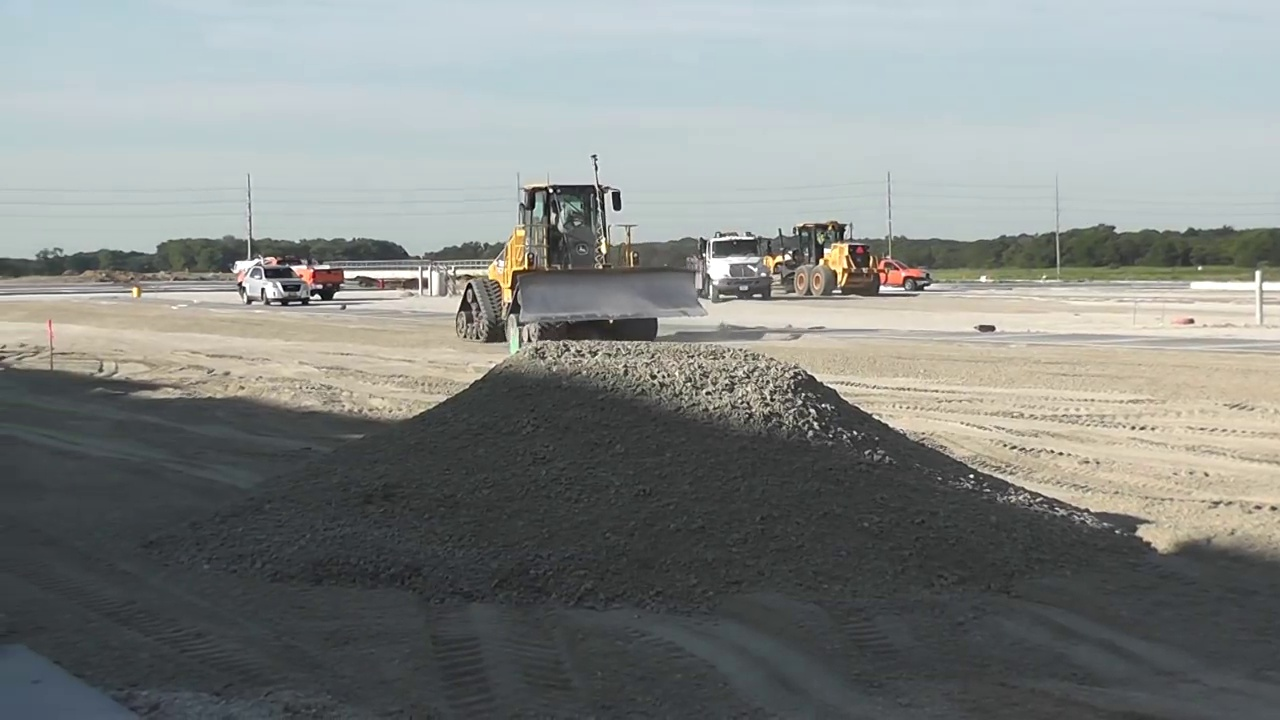bulldozer: (449, 180, 719, 345)
car: (241, 264, 309, 306)
truck: (238, 255, 348, 300), (704, 233, 772, 298)
wheel loader: (779, 223, 875, 298)
